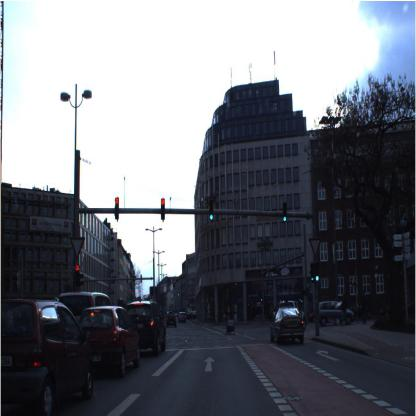other: (306, 234, 323, 261)
